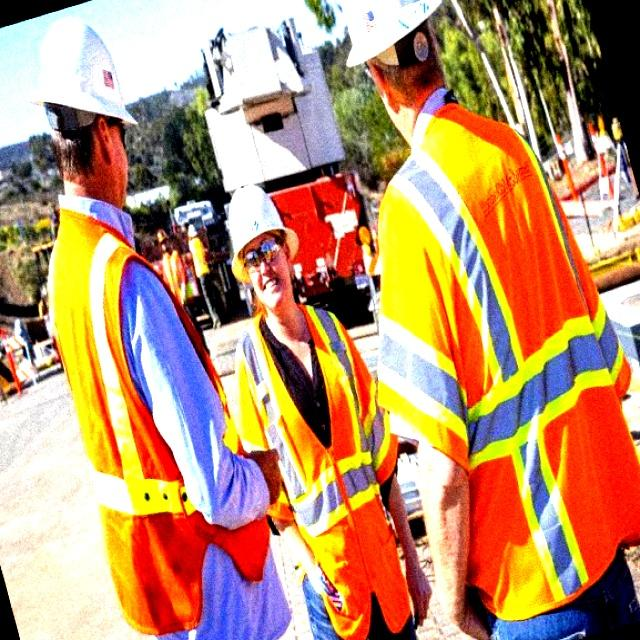helmet: (38, 35, 158, 136), (338, 0, 450, 69), (210, 182, 314, 246)
safety_vest: (366, 106, 635, 618), (44, 205, 282, 630), (227, 310, 431, 640)
